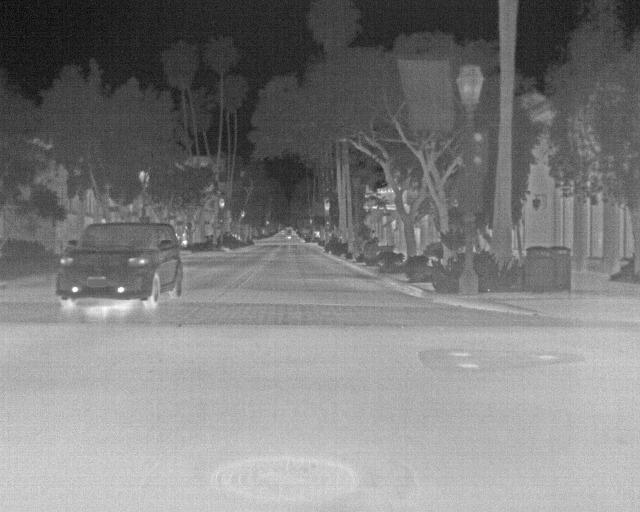car: (54, 220, 184, 311)
